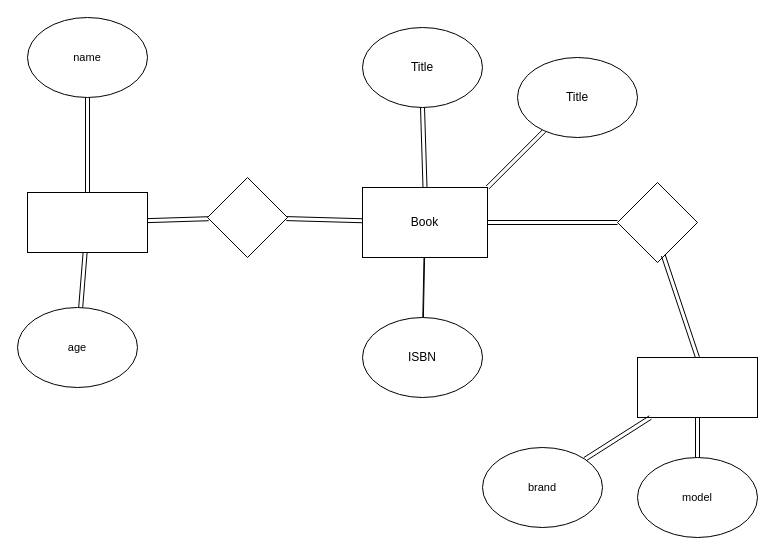
This 775x555 diagram has some shape labels left out. The centre of each missing label's shape, as x and y in pixels:
Author: (87,222)
Printed By: (657,222)
Printer: (697,387)
Writes: (247,217)
